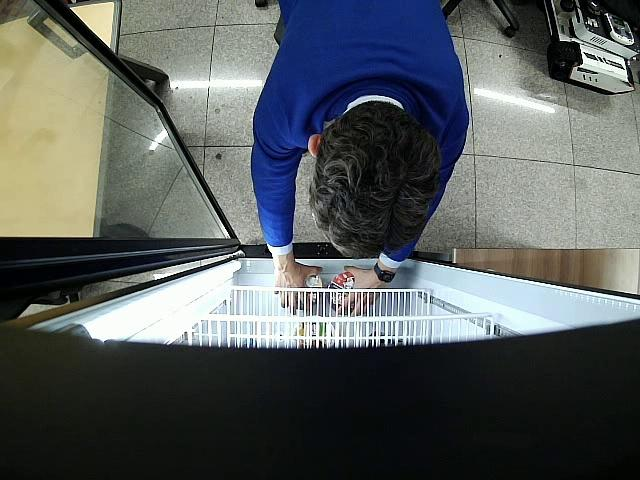00_hand: (274, 260, 322, 315), (335, 266, 382, 317)
07_buldak_L: (328, 272, 353, 314)
